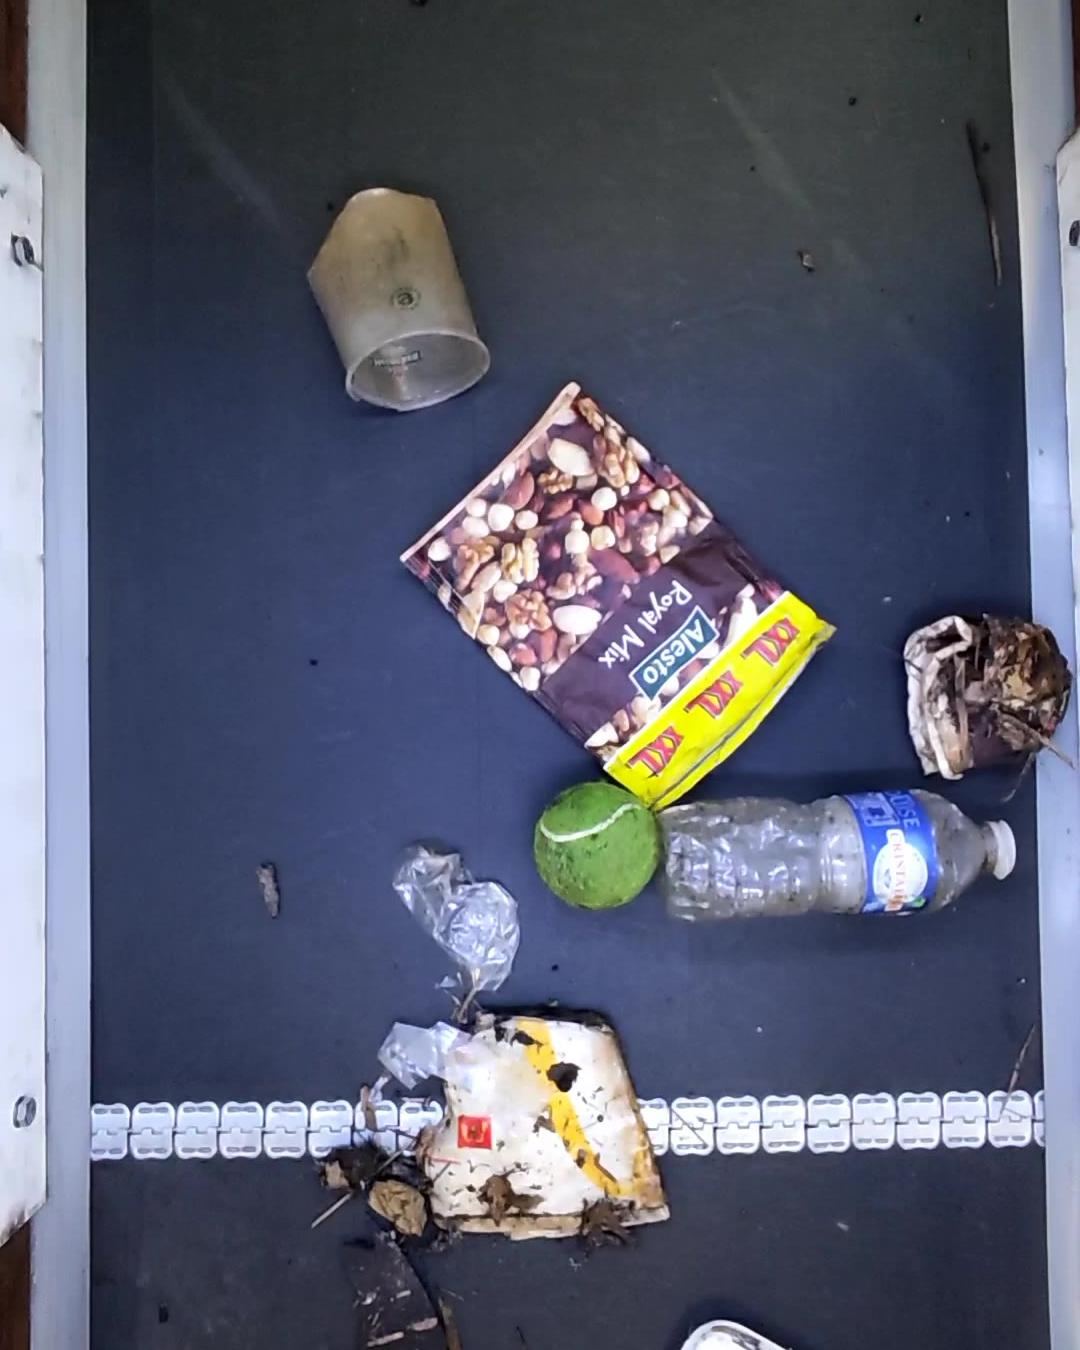Drankflessen - 1-2 liter: (654, 787, 1018, 924)
Plastic folies of stukken daarvan 2.5- 50 cm: (386, 841, 521, 998), (376, 1009, 546, 1120)
Voedselverpakkingen: (393, 379, 831, 822)
